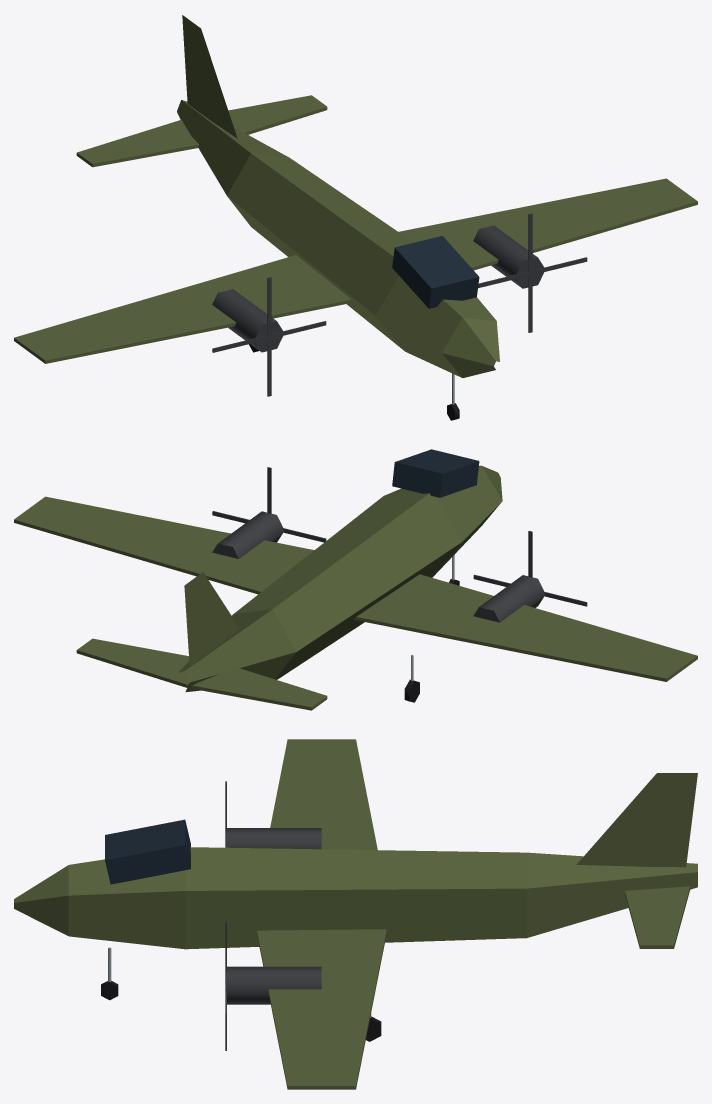
Rendered from veh_air_airliner_a06_lod1.glb.
3 renders of one model, top to bottom at view 1: azimuth 30°, elevation 25°; view 2: azimuth 150°, elevation 25°; view 3: azimuth 270°, elevation 25°, orthographic. The views are drawn at different scales.
Visible parts, largest first — view 1: body, propeller_0, propeller_1; view 2: body, propeller_0, propeller_1; view 3: body.
Part boxes in pixels (x1,y1,x2,y2): body: (14, 15, 697, 377); propeller_0: (212, 277, 326, 396); propeller_1: (478, 213, 587, 332); body: (14, 449, 697, 710); propeller_0: (473, 531, 587, 606); propeller_1: (212, 467, 326, 542); body: (14, 739, 697, 1089).
Size of the model in its own units: 24.72 by 7.53 by 20.6.
